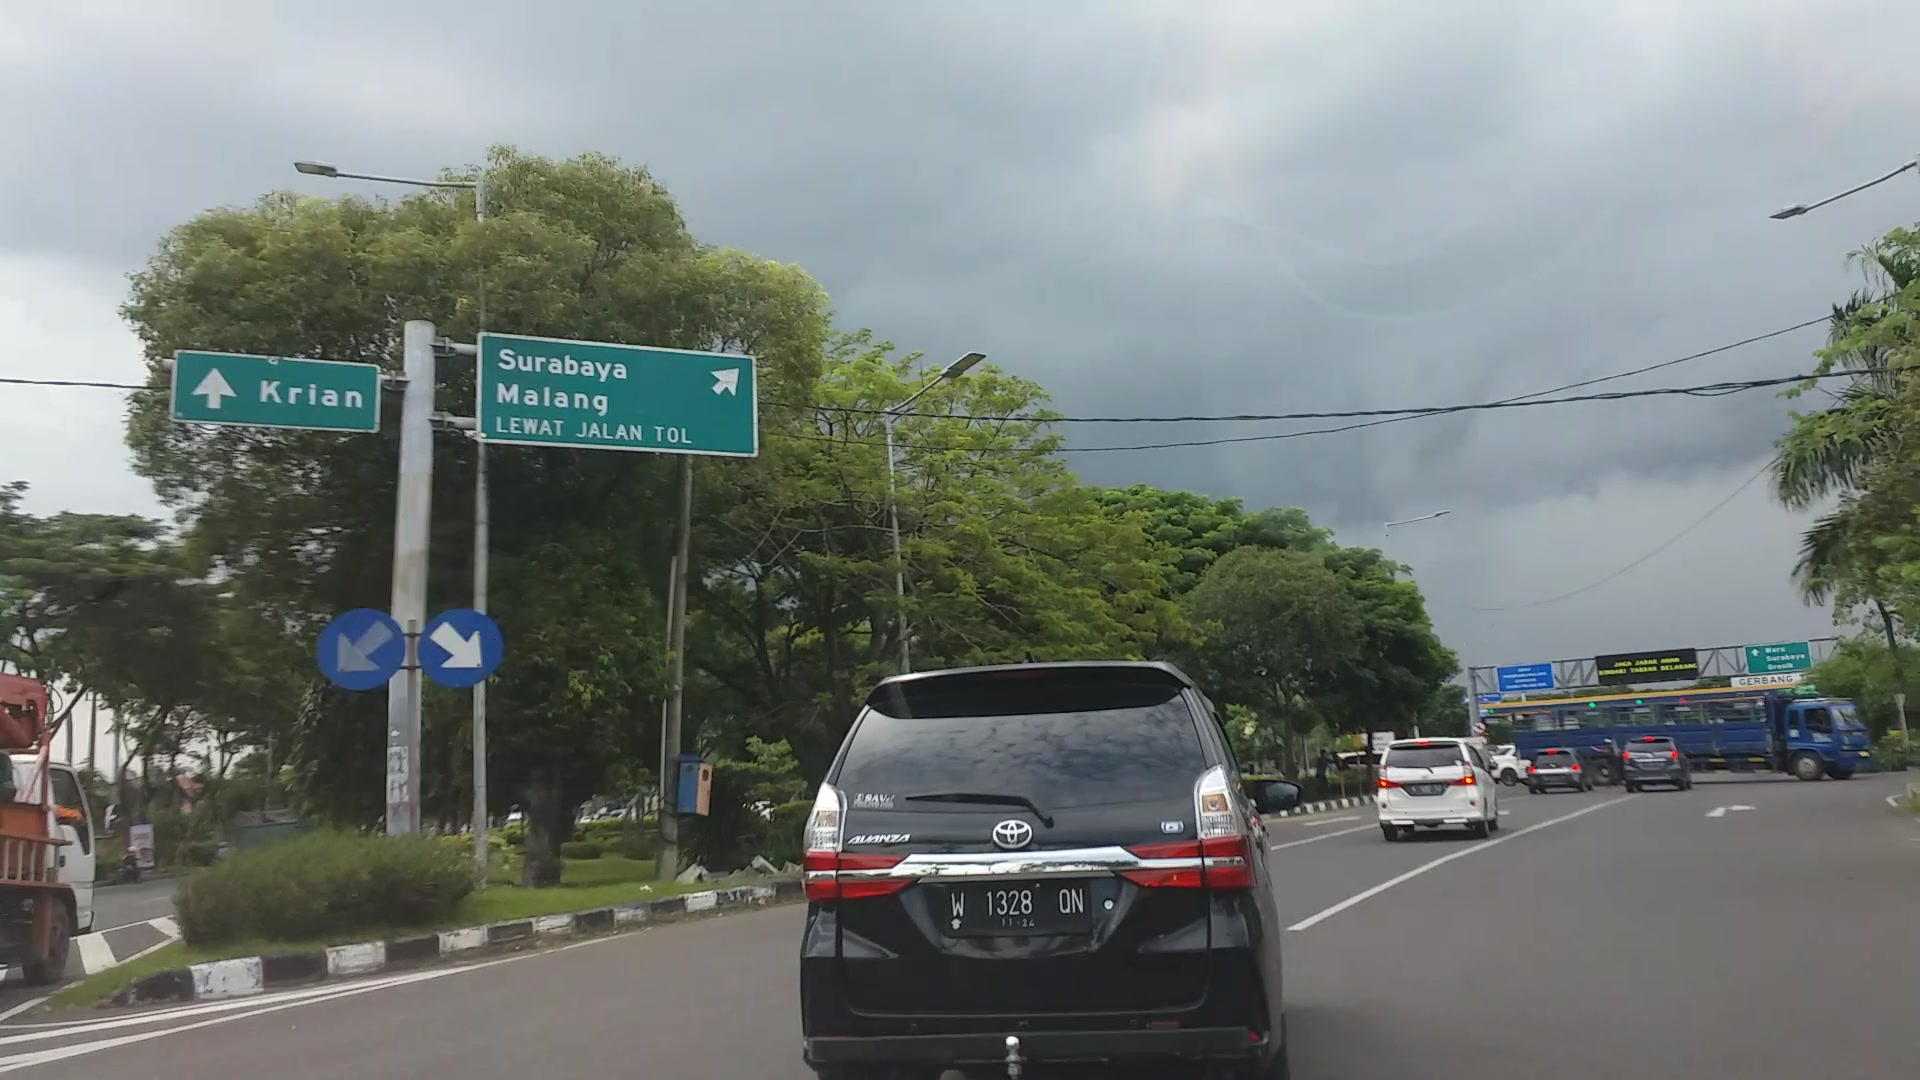plate_positive: (945, 882, 1091, 935)
